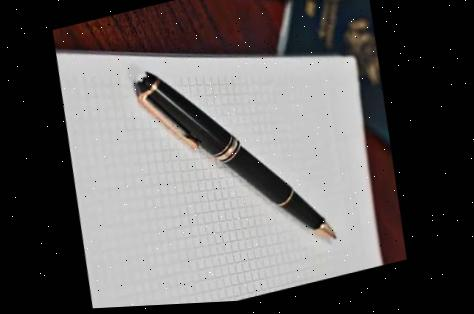pen-pencil: (138, 73, 335, 238)
